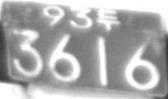1: (88, 36, 120, 85)
3: (12, 27, 43, 77), (69, 5, 92, 29)
6: (124, 38, 160, 90), (47, 32, 81, 81)
9: (42, 4, 65, 25)
두: (97, 7, 119, 30)
